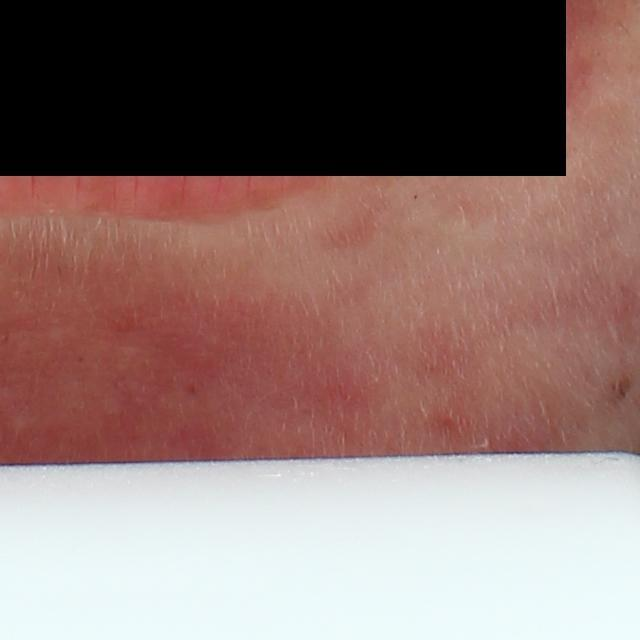nevus: (612, 378, 636, 400)
